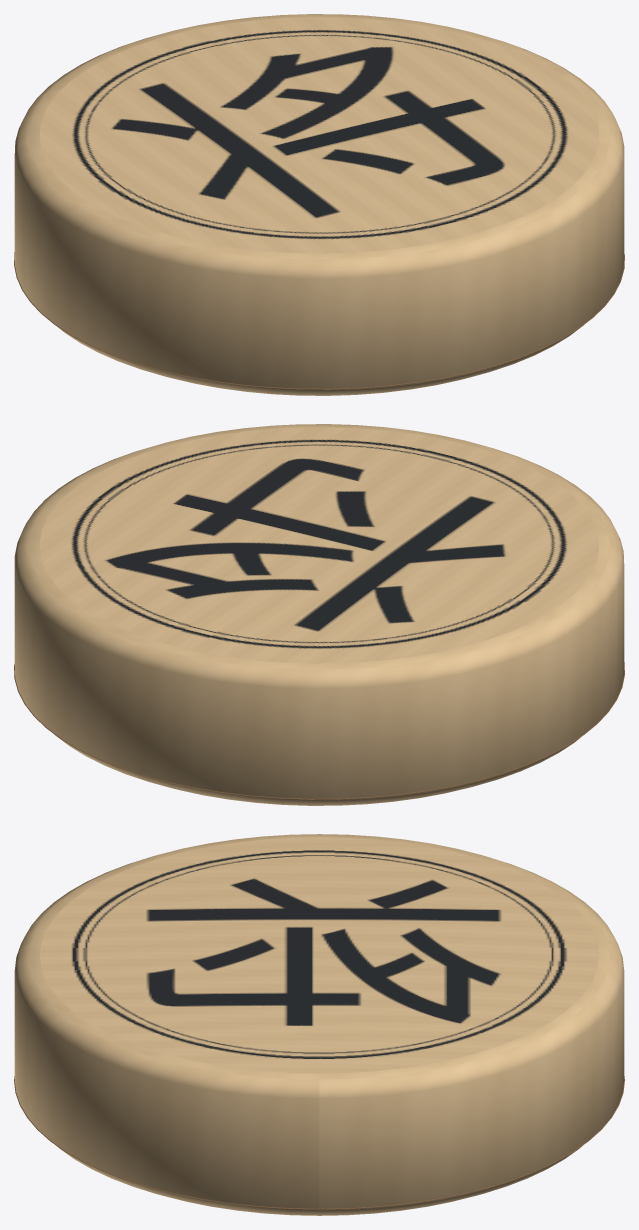
Rendered from pieces.glb.
3 views of the same model, one above another, from view 1: azimuth 30°, elevation 25°; view 2: azimuth 150°, elevation 25°; view 3: azimuth 270°, elevation 25° (orthographic).
Parts seen in each view (by area): view 1: Xiangqi_black_将.001, Xiangqi_PieceBody.008, Xiangqi_FineEdgeRing.008; view 2: Xiangqi_black_将.001, Xiangqi_PieceBody.008, Xiangqi_FineEdgeRing.008; view 3: Xiangqi_black_将.001, Xiangqi_PieceBody.008, Xiangqi_FineEdgeRing.008.
Part boxes in pixels (x1,y1,x2,y2): Xiangqi_black_将.001: [40, 17, 598, 253]; Xiangqi_PieceBody.008: [14, 14, 624, 395]; Xiangqi_FineEdgeRing.008: [14, 252, 624, 389]; Xiangqi_black_将.001: [40, 427, 598, 663]; Xiangqi_PieceBody.008: [14, 424, 624, 805]; Xiangqi_FineEdgeRing.008: [14, 662, 624, 799]; Xiangqi_black_将.001: [40, 837, 598, 1073]; Xiangqi_PieceBody.008: [14, 834, 624, 1215]; Xiangqi_FineEdgeRing.008: [14, 1076, 624, 1209].
Bounding box in the file's own units: 0.9224 × 0.2553 × 0.9224.
Materials: 3 (2 with a texture image).
